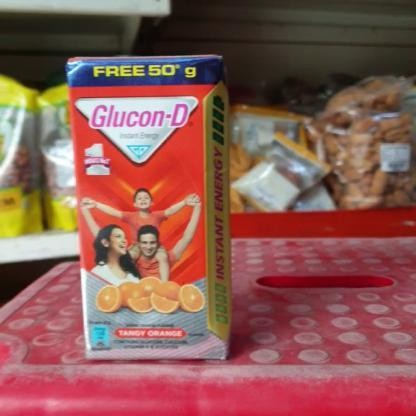Glucon D Tangy orange 1-KG: (72, 58, 218, 362)
